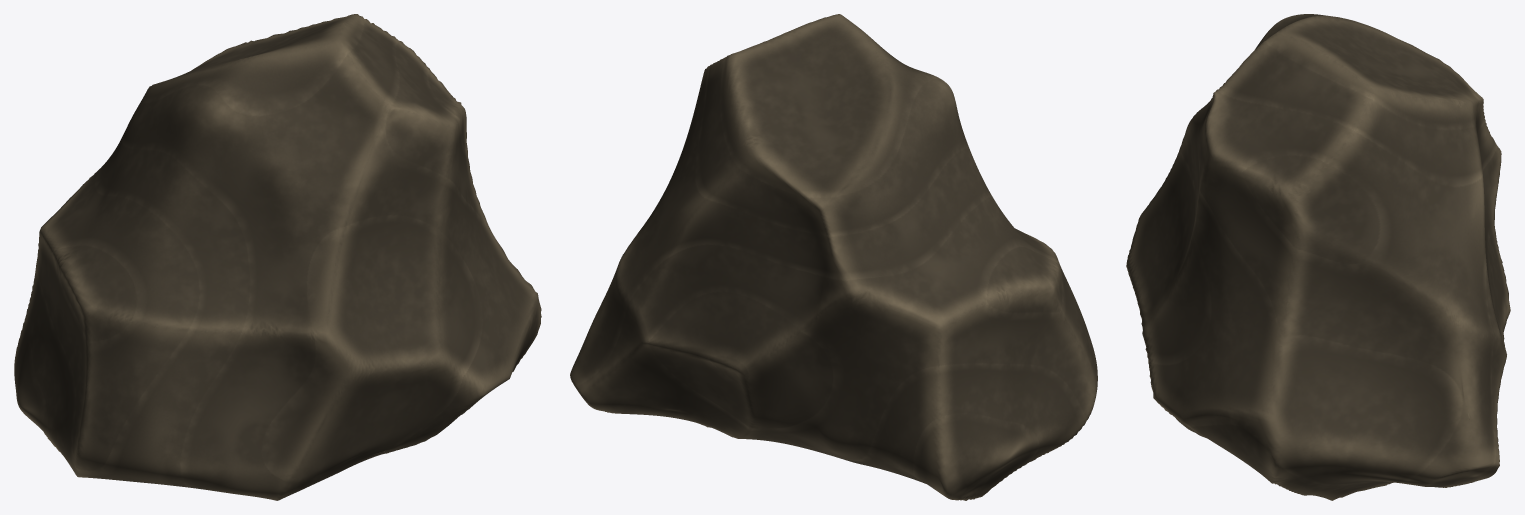
File: sharp_rock_L.fbx
The picture shows the model from 3 angles, left to right: view 1: azimuth 30°, elevation 25°; view 2: azimuth 150°, elevation 25°; view 3: azimuth 270°, elevation 25°; orthographic projection. The views are drawn at different scales.
Visible parts, largest first — view 1: sharp_rock_L; view 2: sharp_rock_L; view 3: sharp_rock_L.
Part boxes in pixels (x1,y1,x2,y2): sharp_rock_L: [14, 14, 541, 500]; sharp_rock_L: [570, 14, 1097, 500]; sharp_rock_L: [1126, 14, 1510, 500].
Size of the model in its own units: 1055 by 931 by 759.
